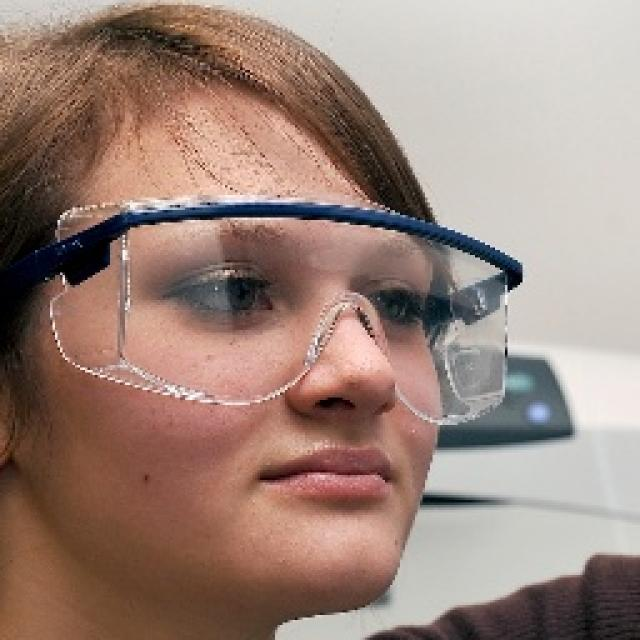no-glasses: (22, 179, 550, 457)
